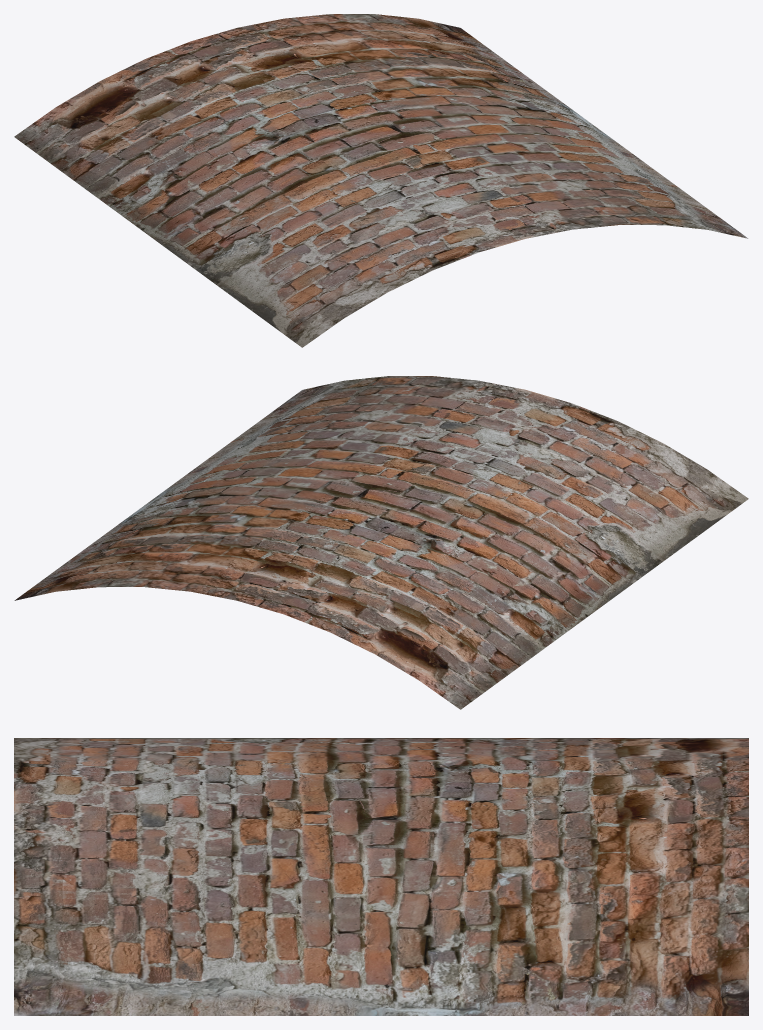
Rendered from SM_ChapelCeiling_01_04.fbx.
3 views of the same model, one above another, from view 1: azimuth 30°, elevation 25°; view 2: azimuth 150°, elevation 25°; view 3: azimuth 270°, elevation 25° (orthographic). The views are drawn at different scales.
Parts seen in each view (by area): view 1: sm_ChapelCeiling_01_04_LOD0; view 2: sm_ChapelCeiling_01_04_LOD0; view 3: sm_ChapelCeiling_01_04_LOD0.
Part boxes in pixels (left/top/right/bottom): sm_ChapelCeiling_01_04_LOD0: left=14, top=14, right=748, bottom=347; sm_ChapelCeiling_01_04_LOD0: left=14, top=376, right=748, bottom=709; sm_ChapelCeiling_01_04_LOD0: left=14, top=738, right=748, bottom=1015.
Bounding box in the file's own units: 275 × 246 × 28.72.
